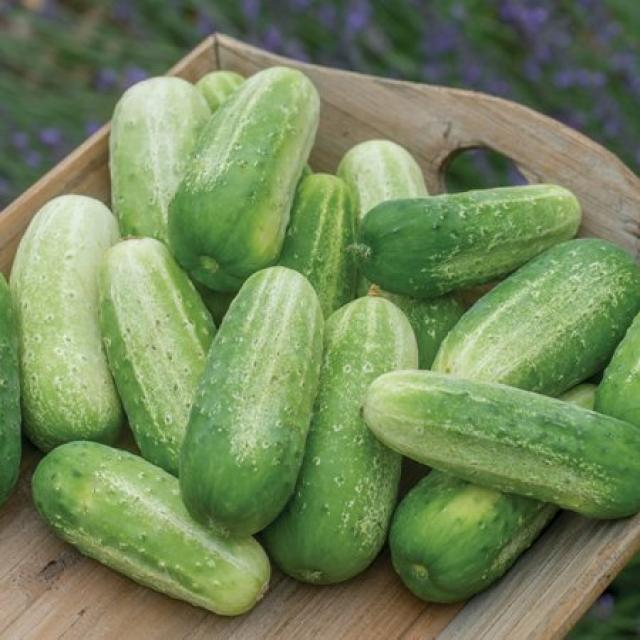cucumber: (269, 294, 419, 586), (31, 440, 272, 621), (365, 368, 639, 522), (182, 264, 324, 522), (167, 67, 322, 293), (97, 236, 220, 492), (440, 237, 639, 391), (8, 195, 123, 450), (353, 180, 581, 288)
